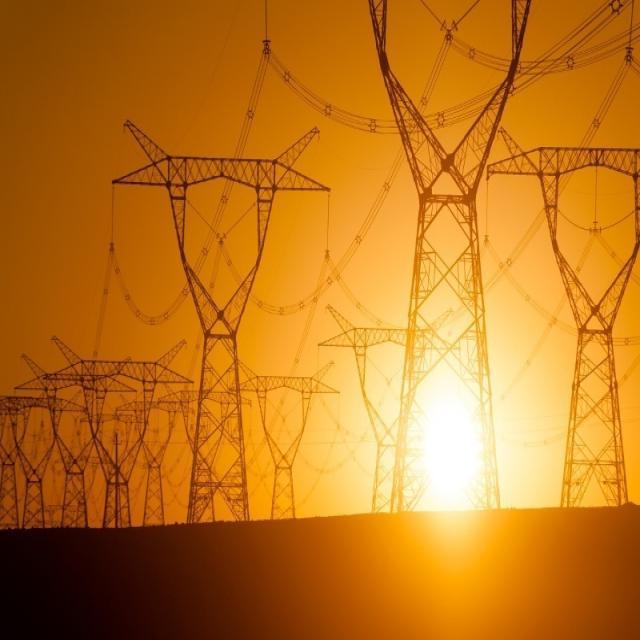non-critical vegetation: (366, 19, 516, 521), (120, 126, 298, 526), (502, 126, 630, 516), (45, 339, 168, 528), (237, 362, 316, 524)
